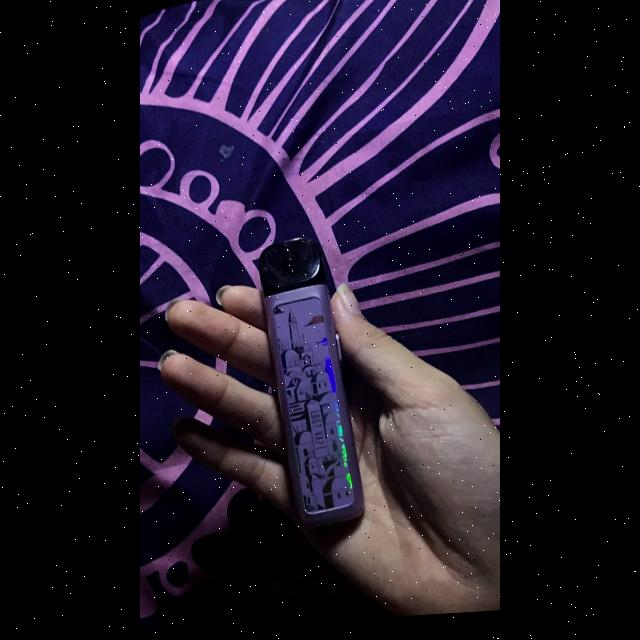vape: (257, 240, 365, 533)
